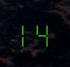four: (35, 20, 50, 47)
one: (19, 20, 34, 47)
